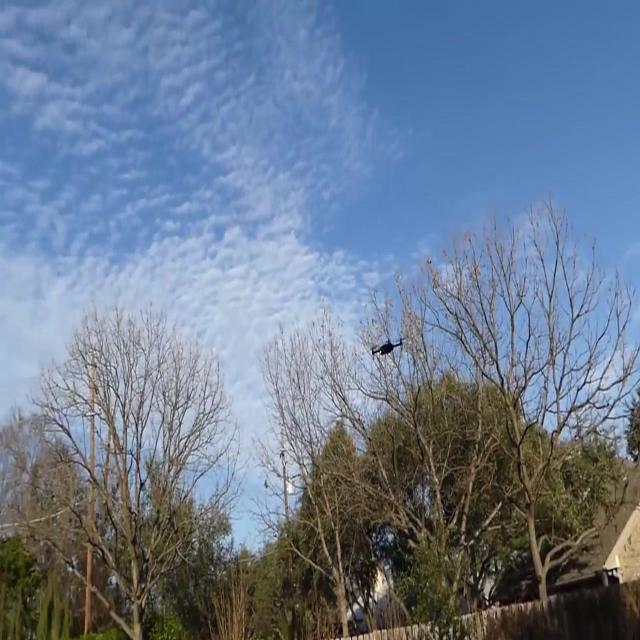drone: (367, 334, 408, 360)
